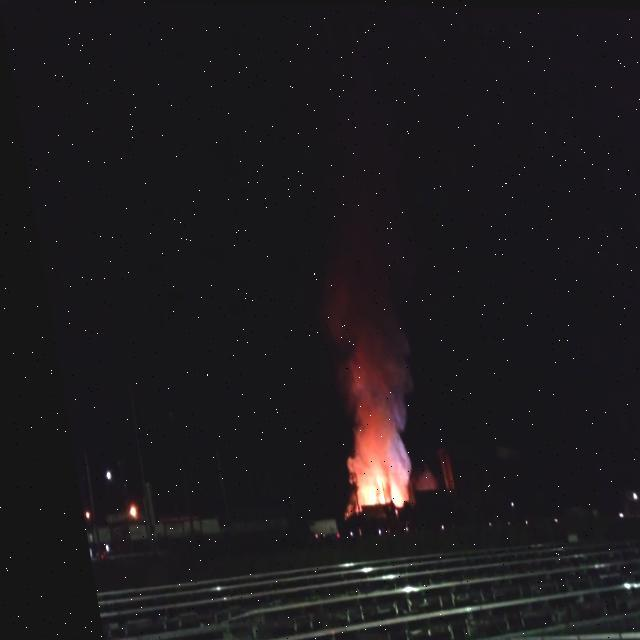Fire: (339, 473, 386, 507)
